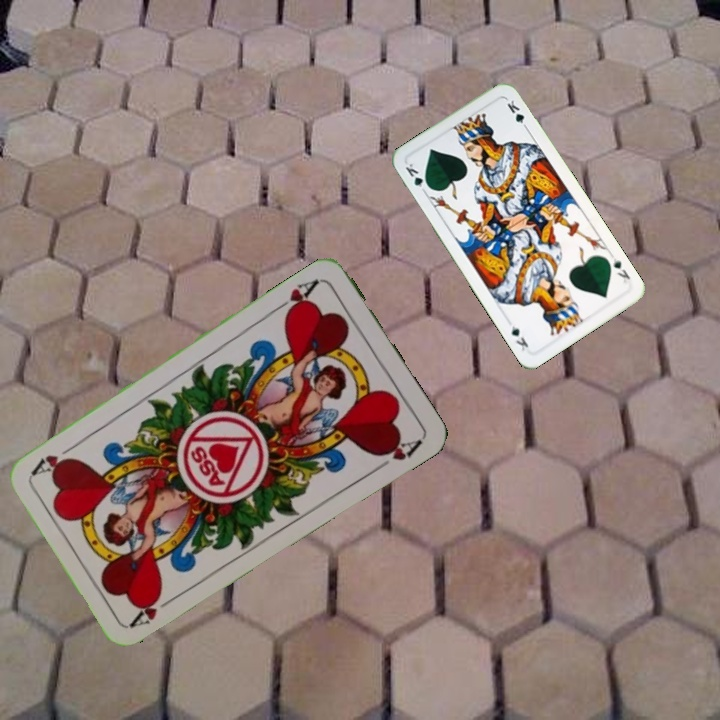GK: (401, 159, 433, 196), (605, 254, 633, 287)
HA: (271, 274, 322, 320), (127, 588, 180, 630)
